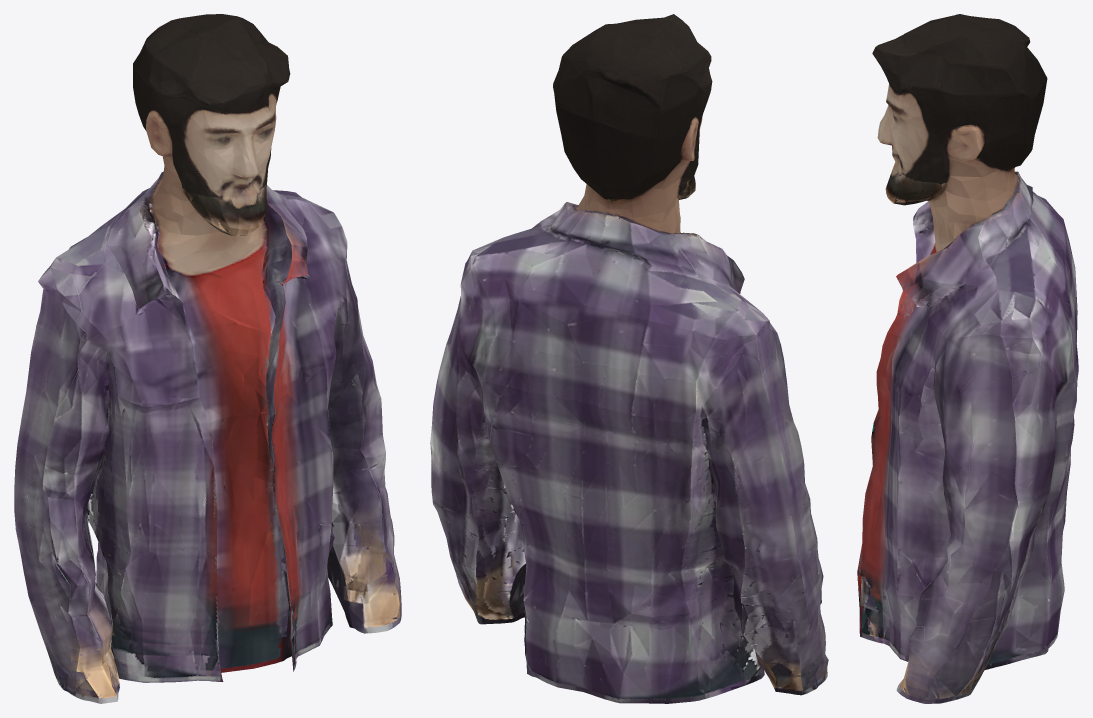
File: step_16.glb
The picture shows the model from 3 angles, left to right: view 1: azimuth 30°, elevation 25°; view 2: azimuth 150°, elevation 25°; view 3: azimuth 270°, elevation 25°; orthographic projection. The views are drawn at different scales.
Visible parts, largest first — view 1: geometry_0; view 2: geometry_0; view 3: geometry_0.
Boxes of the visible parts, x1,y1,x2,y2 form: geometry_0: [14, 14, 401, 703]; geometry_0: [430, 14, 828, 703]; geometry_0: [857, 14, 1078, 703].
Size of the model in its own units: 0.5059 by 0.8284 by 0.2764.
Materials: 1 (1 with a texture image).
